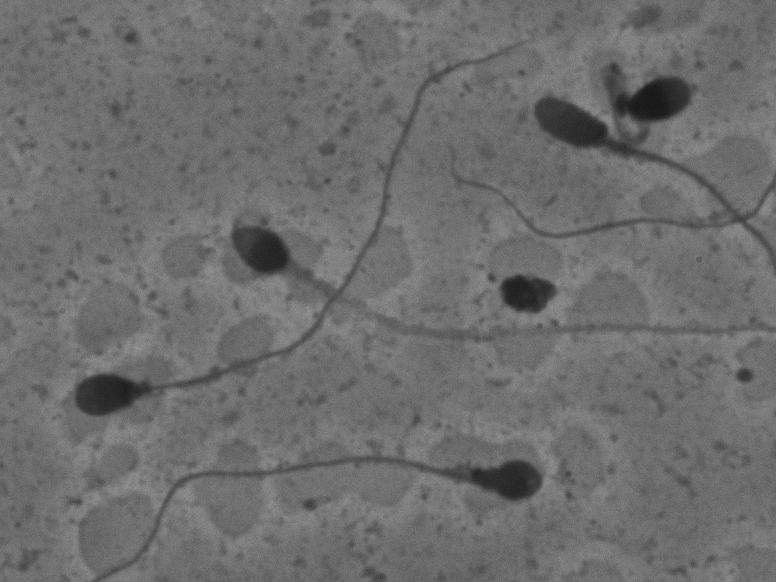Abnormal: (61, 33, 544, 425), (81, 441, 562, 576), (503, 74, 774, 252), (596, 45, 710, 141)
Normal: (198, 199, 769, 354)
